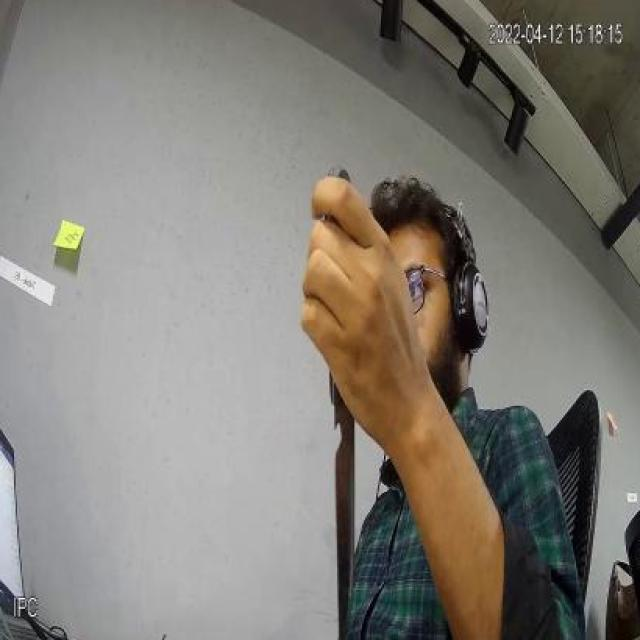Knife: (288, 168, 397, 638)
